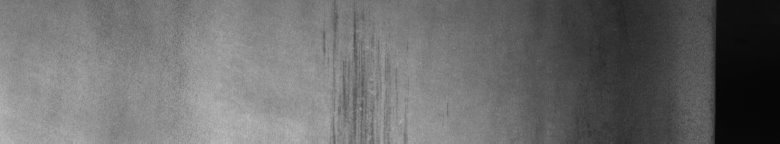ka: (323, 8, 364, 112)
